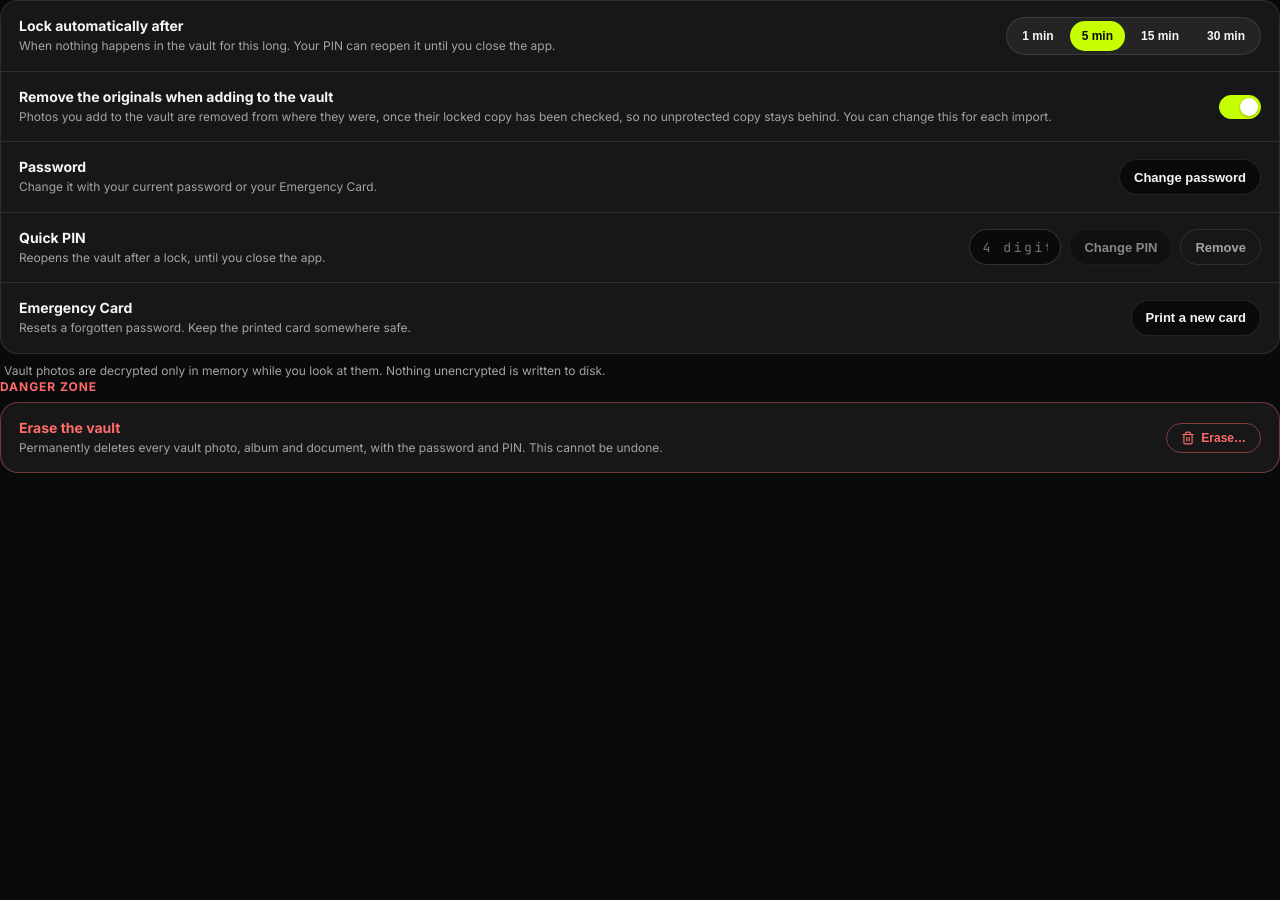
Test: Private Vault settings › explains a wrong password
Click the button "Print a new card" at (1196, 318), box [1131,300,1261,336]
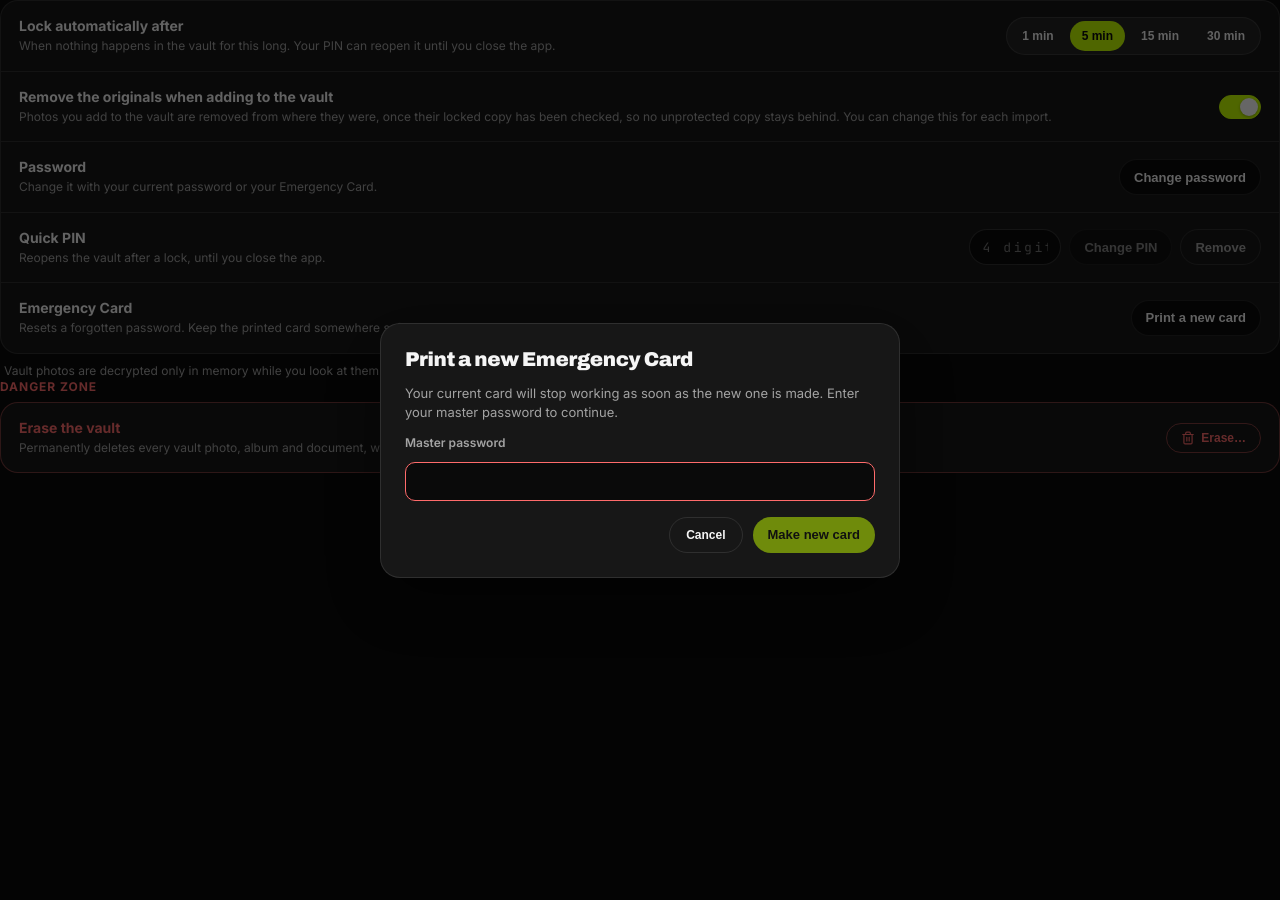
Type "nope" into the password field labelled "Master password" at (640, 481), box [405,462,875,500]
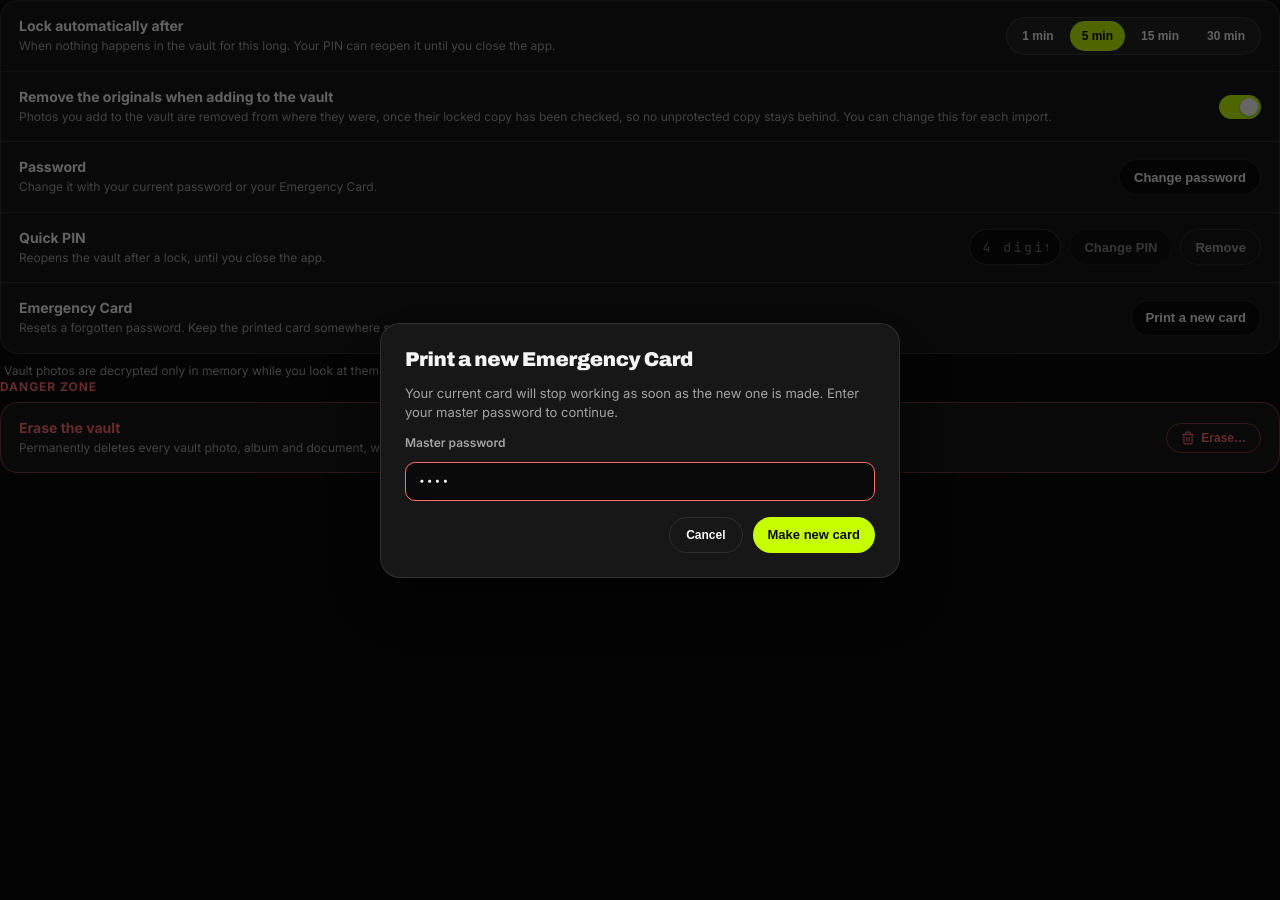
Click the button "Make new card" at (814, 534), box [752,516,875,552]
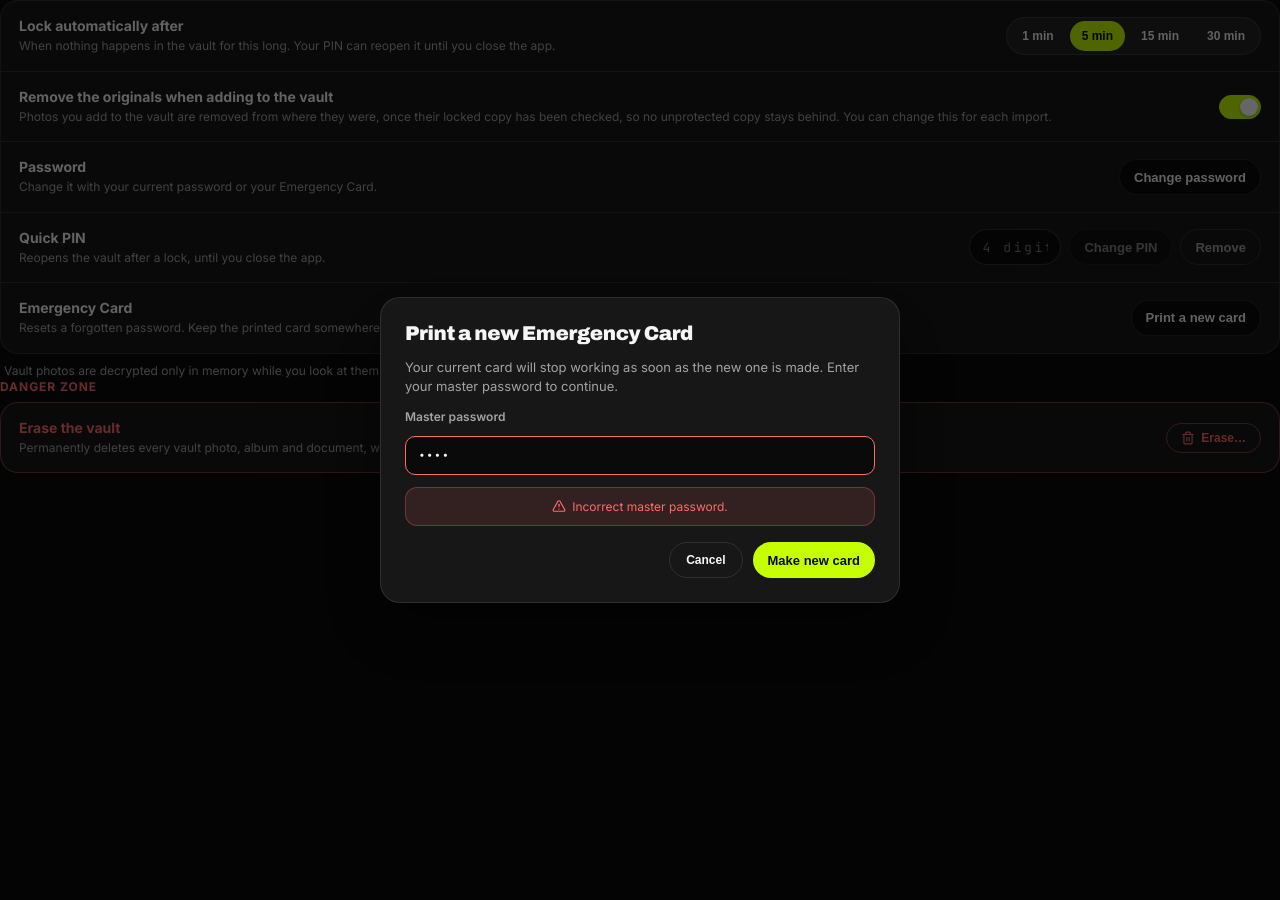
Expected: the message reads "Incorrect master password.", [572,499,728,514]
